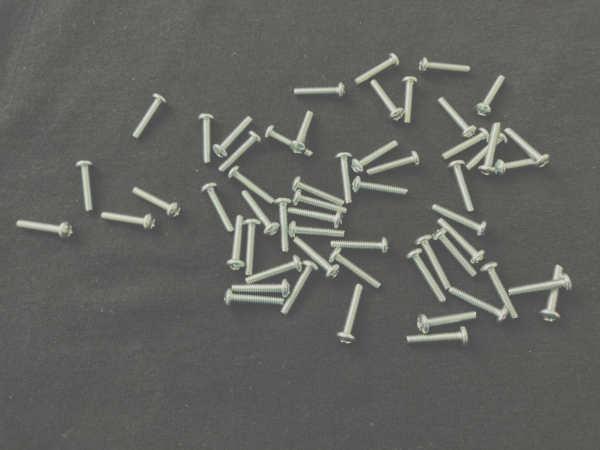longscrew: (448, 287, 510, 328), (405, 248, 448, 305), (436, 218, 487, 266), (432, 227, 479, 279), (480, 261, 520, 321), (328, 247, 382, 291), (280, 260, 320, 317), (414, 234, 453, 292), (292, 236, 341, 281), (218, 130, 263, 174), (504, 128, 551, 170), (228, 165, 275, 206), (432, 204, 487, 239), (241, 189, 280, 238), (463, 132, 508, 174), (200, 182, 235, 234), (213, 116, 254, 160), (132, 185, 183, 220), (131, 93, 168, 141), (244, 255, 303, 285), (264, 125, 316, 159), (437, 97, 478, 140), (291, 175, 346, 207), (508, 273, 575, 299), (351, 140, 399, 176), (337, 284, 365, 345), (441, 128, 490, 161), (417, 310, 478, 336), (354, 53, 400, 87), (539, 264, 565, 324), (370, 79, 405, 122), (405, 326, 470, 349), (448, 159, 475, 214), (366, 150, 420, 177), (292, 189, 348, 215), (474, 74, 506, 117), (477, 122, 502, 177), (287, 206, 344, 230), (15, 219, 74, 242), (223, 288, 287, 308), (351, 175, 409, 197), (100, 211, 157, 233), (75, 159, 97, 215), (226, 215, 247, 273), (330, 236, 390, 256), (289, 111, 316, 155), (231, 279, 292, 298), (243, 218, 262, 277), (273, 198, 293, 254), (289, 221, 346, 240), (335, 152, 354, 206), (293, 82, 346, 101), (419, 56, 471, 75), (400, 75, 419, 126), (198, 112, 215, 165), (494, 158, 540, 177)
